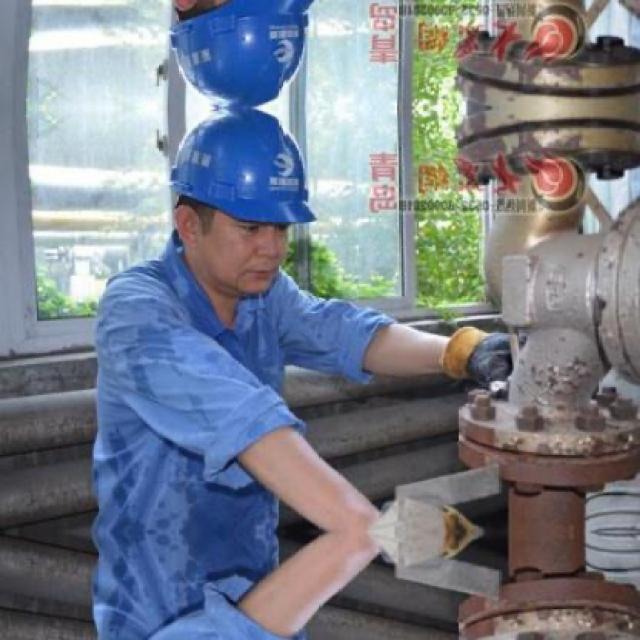helmet: (149, 109, 329, 304), (149, 0, 331, 108)
